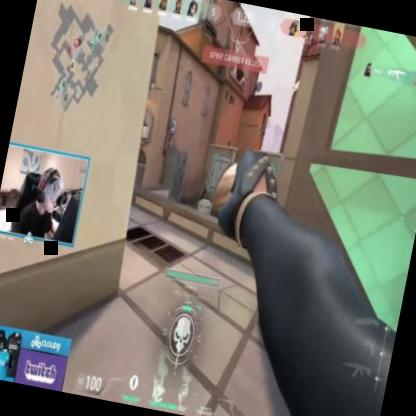enemy: (200, 181, 208, 201)
enemy_head: (204, 181, 207, 185)
